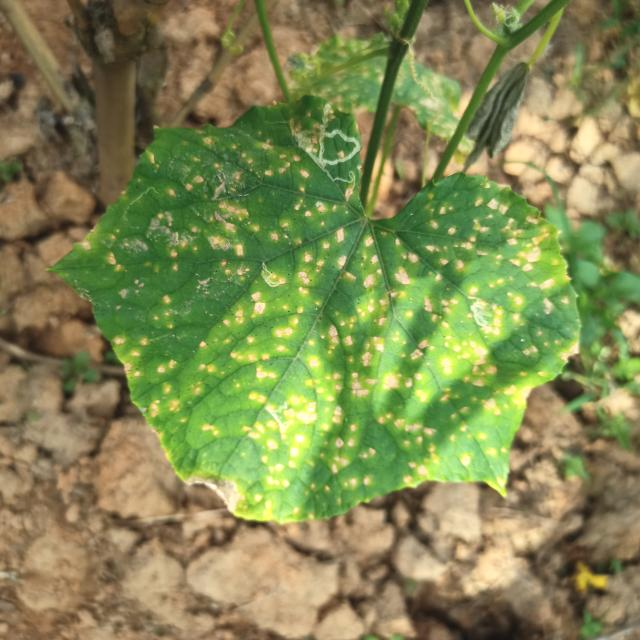disease_cucumber: (75, 146, 561, 518)
